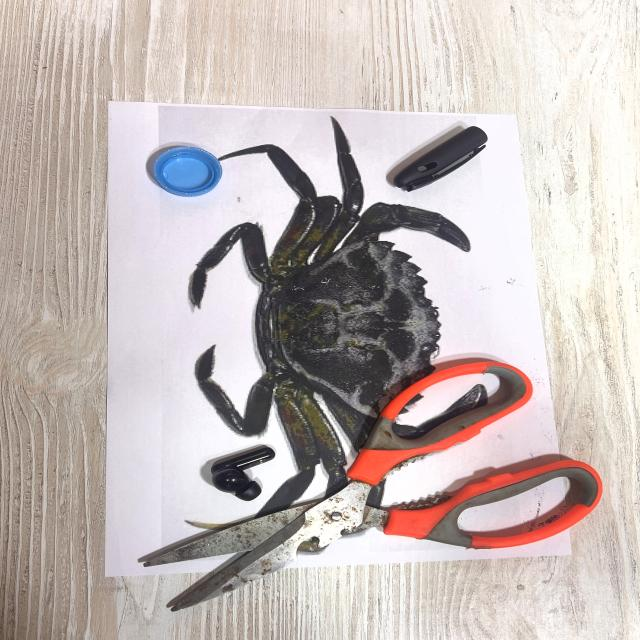European_Green_Crab: (183, 113, 492, 547)
